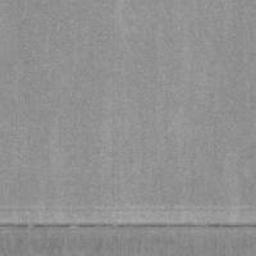Welding line: (0, 223, 256, 230)
